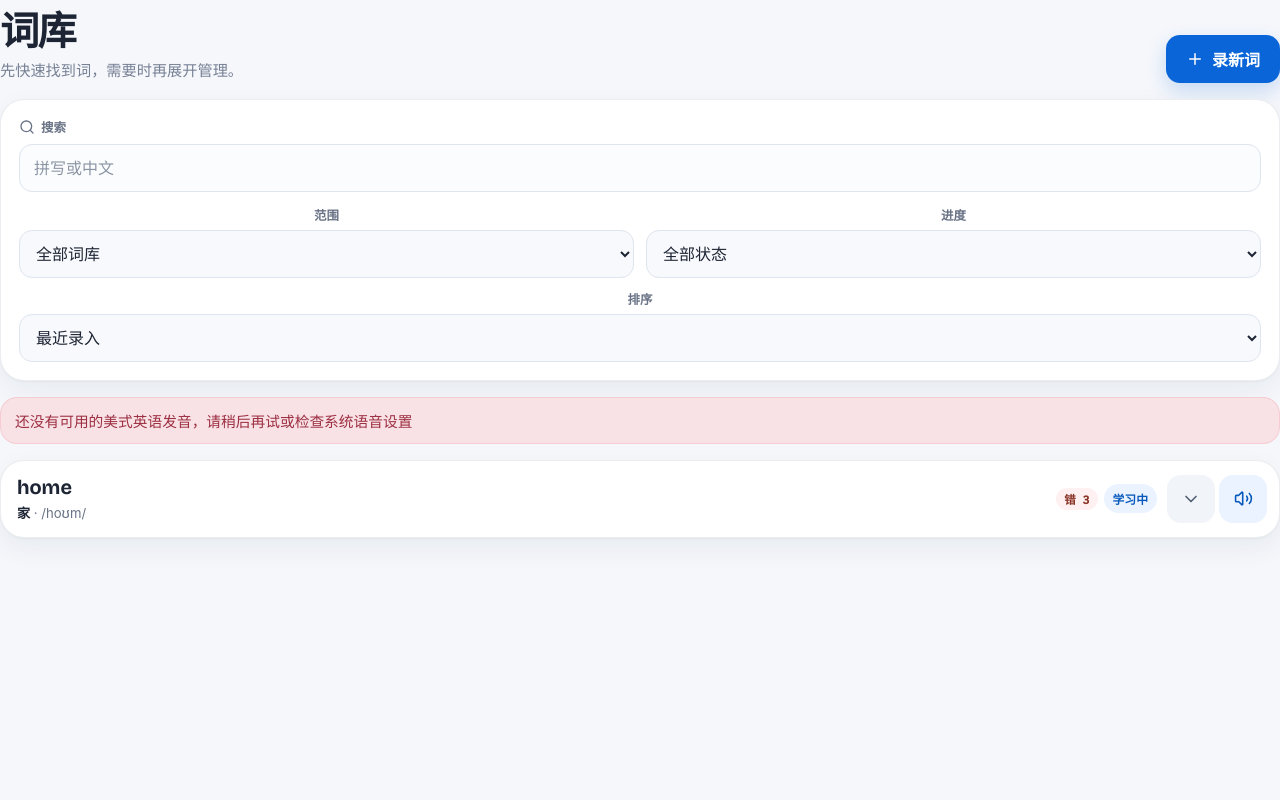
Test: WordsPage compact management › keeps a failed deletion visible inside the dialog and restores page scrolling
(page scrolled)
Click the button with aria-label "查看 home 详情".
click(44, 487)  # box [1, 461, 1215, 537]
(page scrolled)
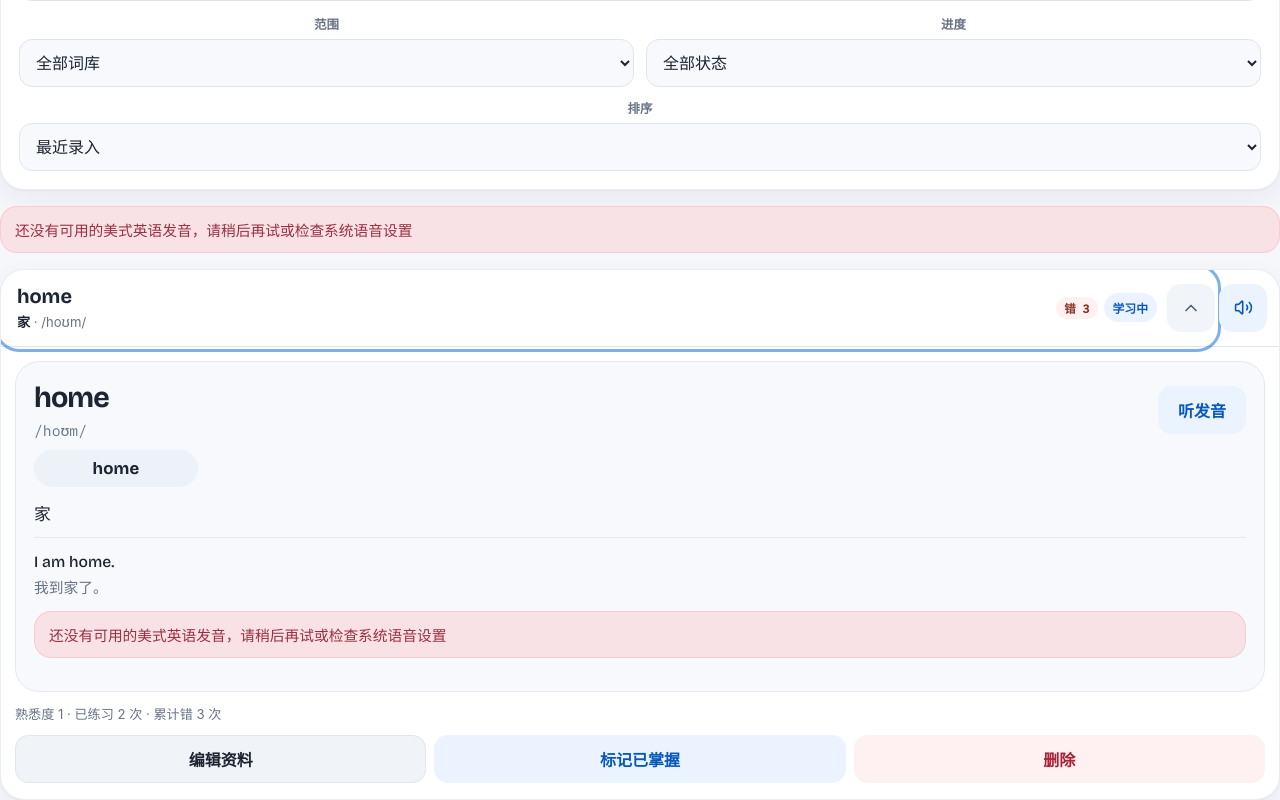
Click the button "删除".
click(1059, 759)  # box [854, 735, 1265, 783]
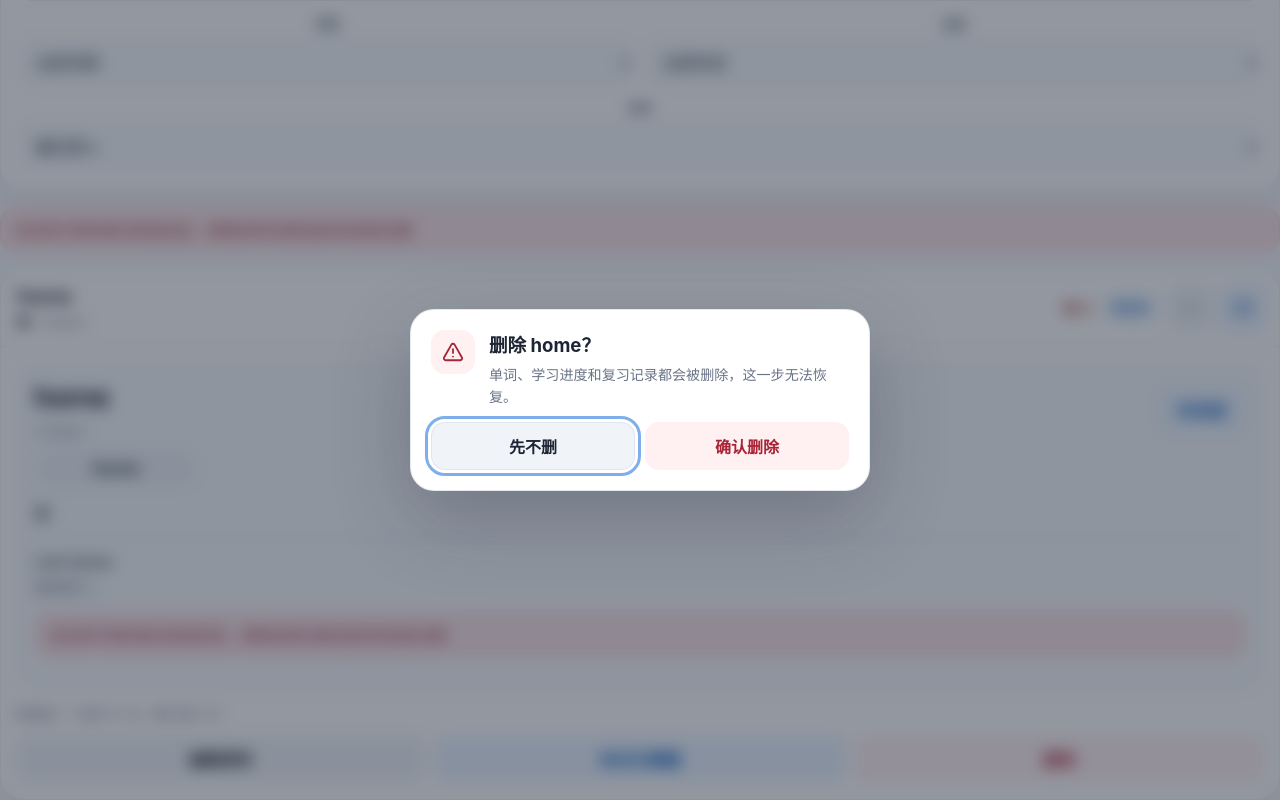
Click the button "确认删除".
click(747, 446)  # box [645, 422, 849, 470]
(page scrolled)
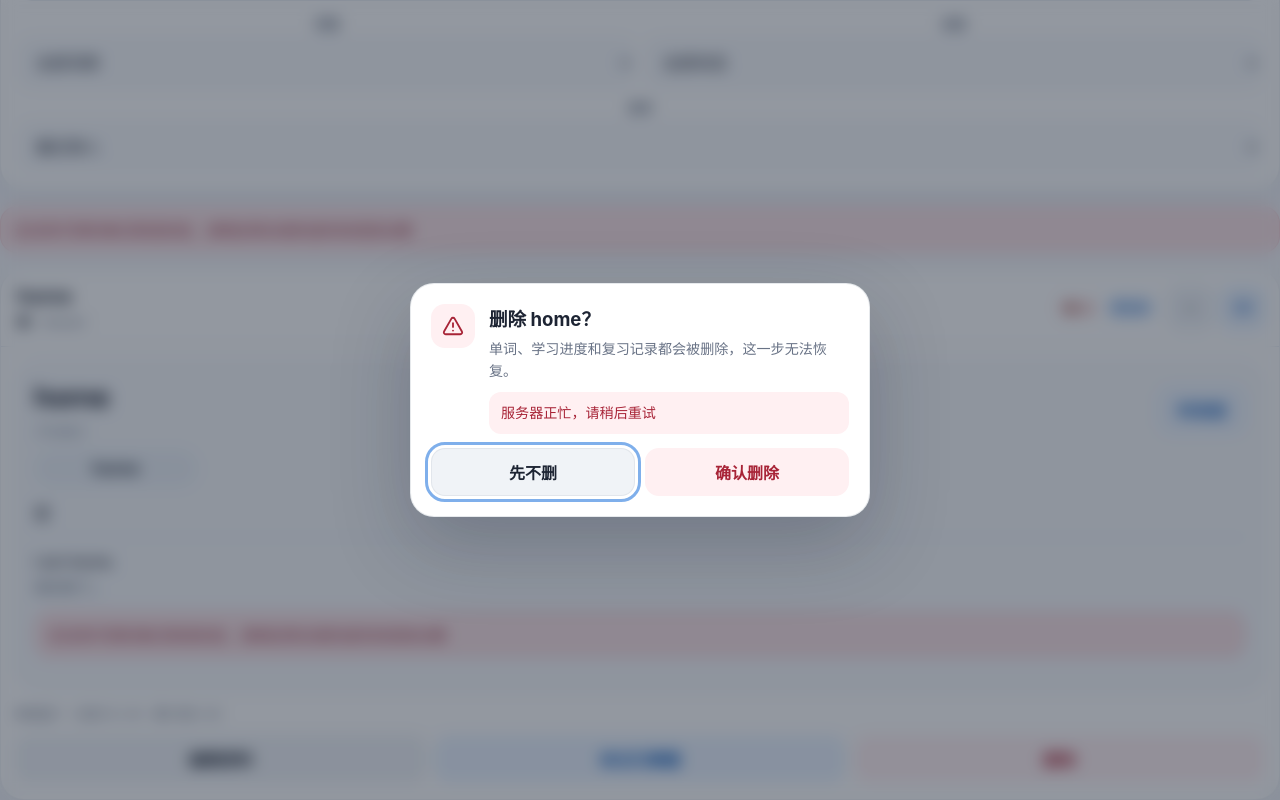
Now the dialog "删除 home？" is shown, box [410, 283, 870, 517]
Now the message "服务器正忙，请稍后重试" is shown, box [489, 392, 849, 434]
Click the button "先不删".
click(533, 472)  # box [431, 448, 635, 496]
(page scrolled)
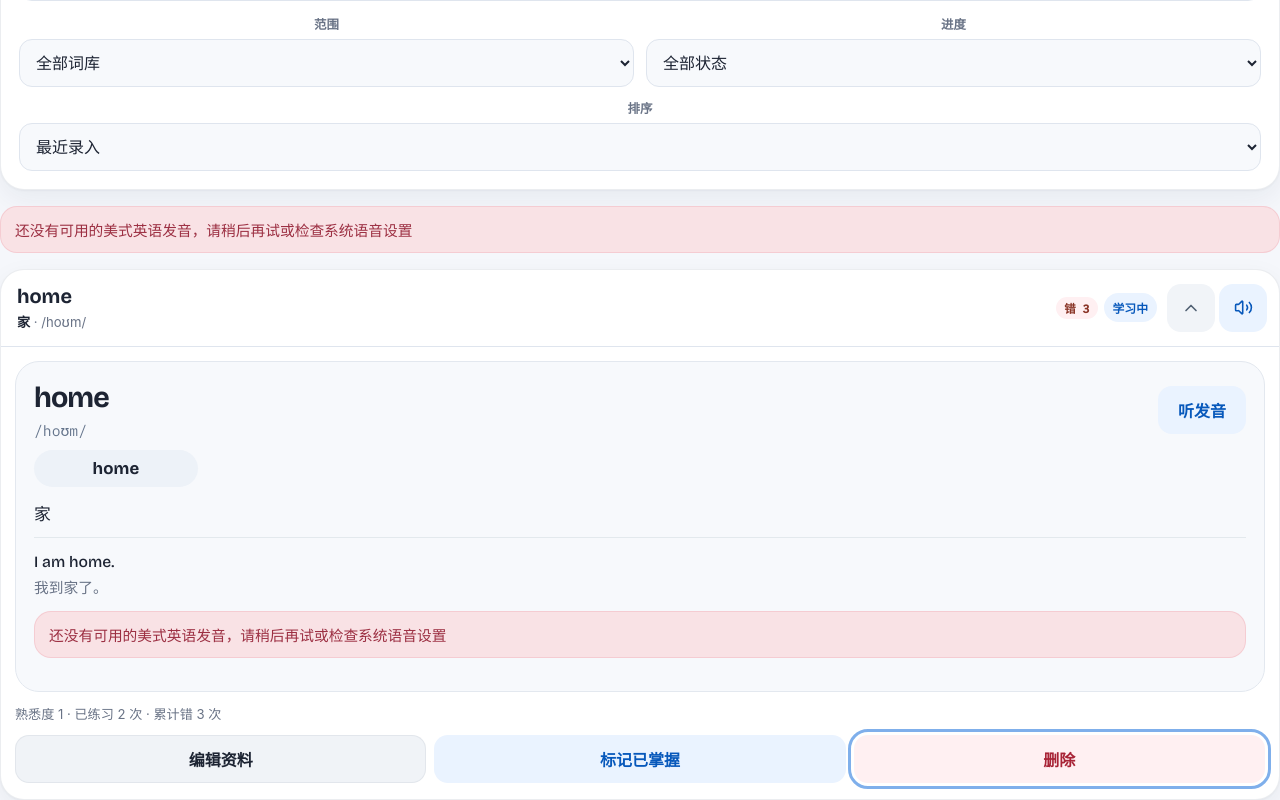
Now the dialog is gone
